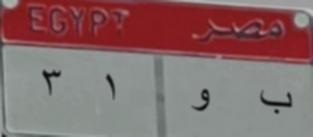1: (102, 70, 121, 110)
3: (38, 63, 64, 98)
baa: (254, 86, 295, 116)
waw: (188, 85, 215, 118)
